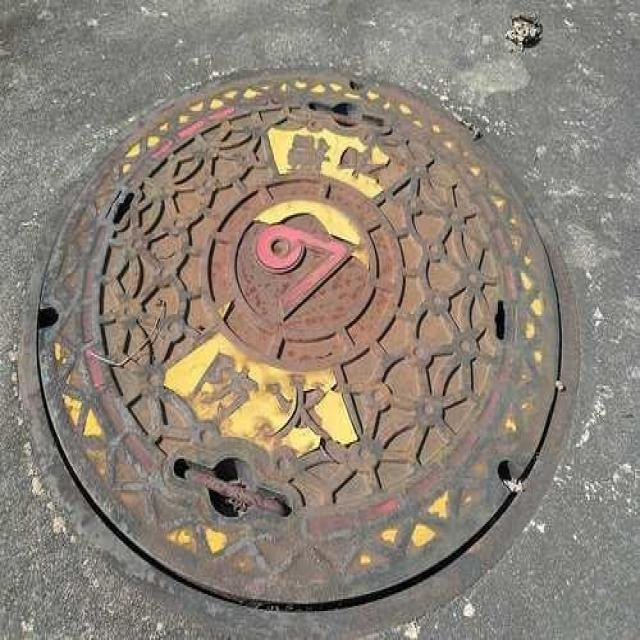manhole: (35, 72, 561, 606)
